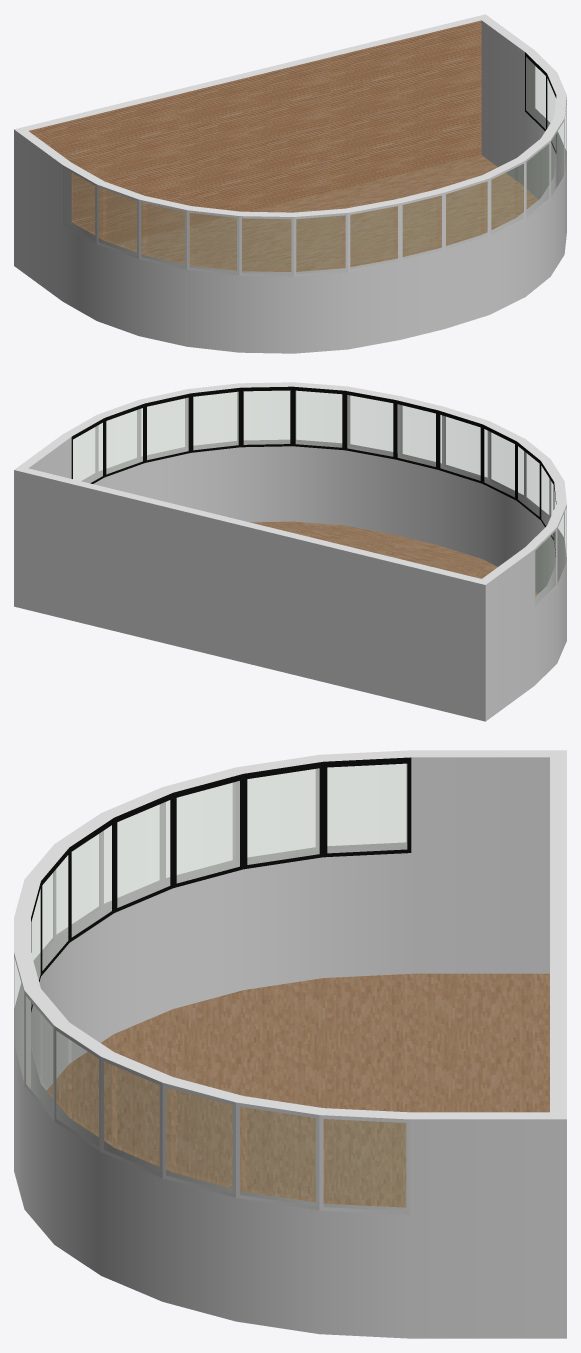
File: Walls.FBX
3 views of the same model, one above another, from view 1: azimuth 30°, elevation 25°; view 2: azimuth 150°, elevation 25°; view 3: azimuth 270°, elevation 25° (orthographic). The views are drawn at different scales.
Visible parts, largest first — view 1: Walls; view 2: Walls; view 3: Walls.
Boxes of the visible parts, x1,y1,x2,y2 form: Walls: [14, 14, 566, 353]; Walls: [14, 382, 566, 721]; Walls: [14, 750, 566, 1338].
Bounding box in the file's own units: 2575 × 713 × 1630.
5 materials, 3 textured.
